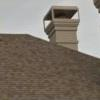Chimney: (37, 2, 86, 59)
